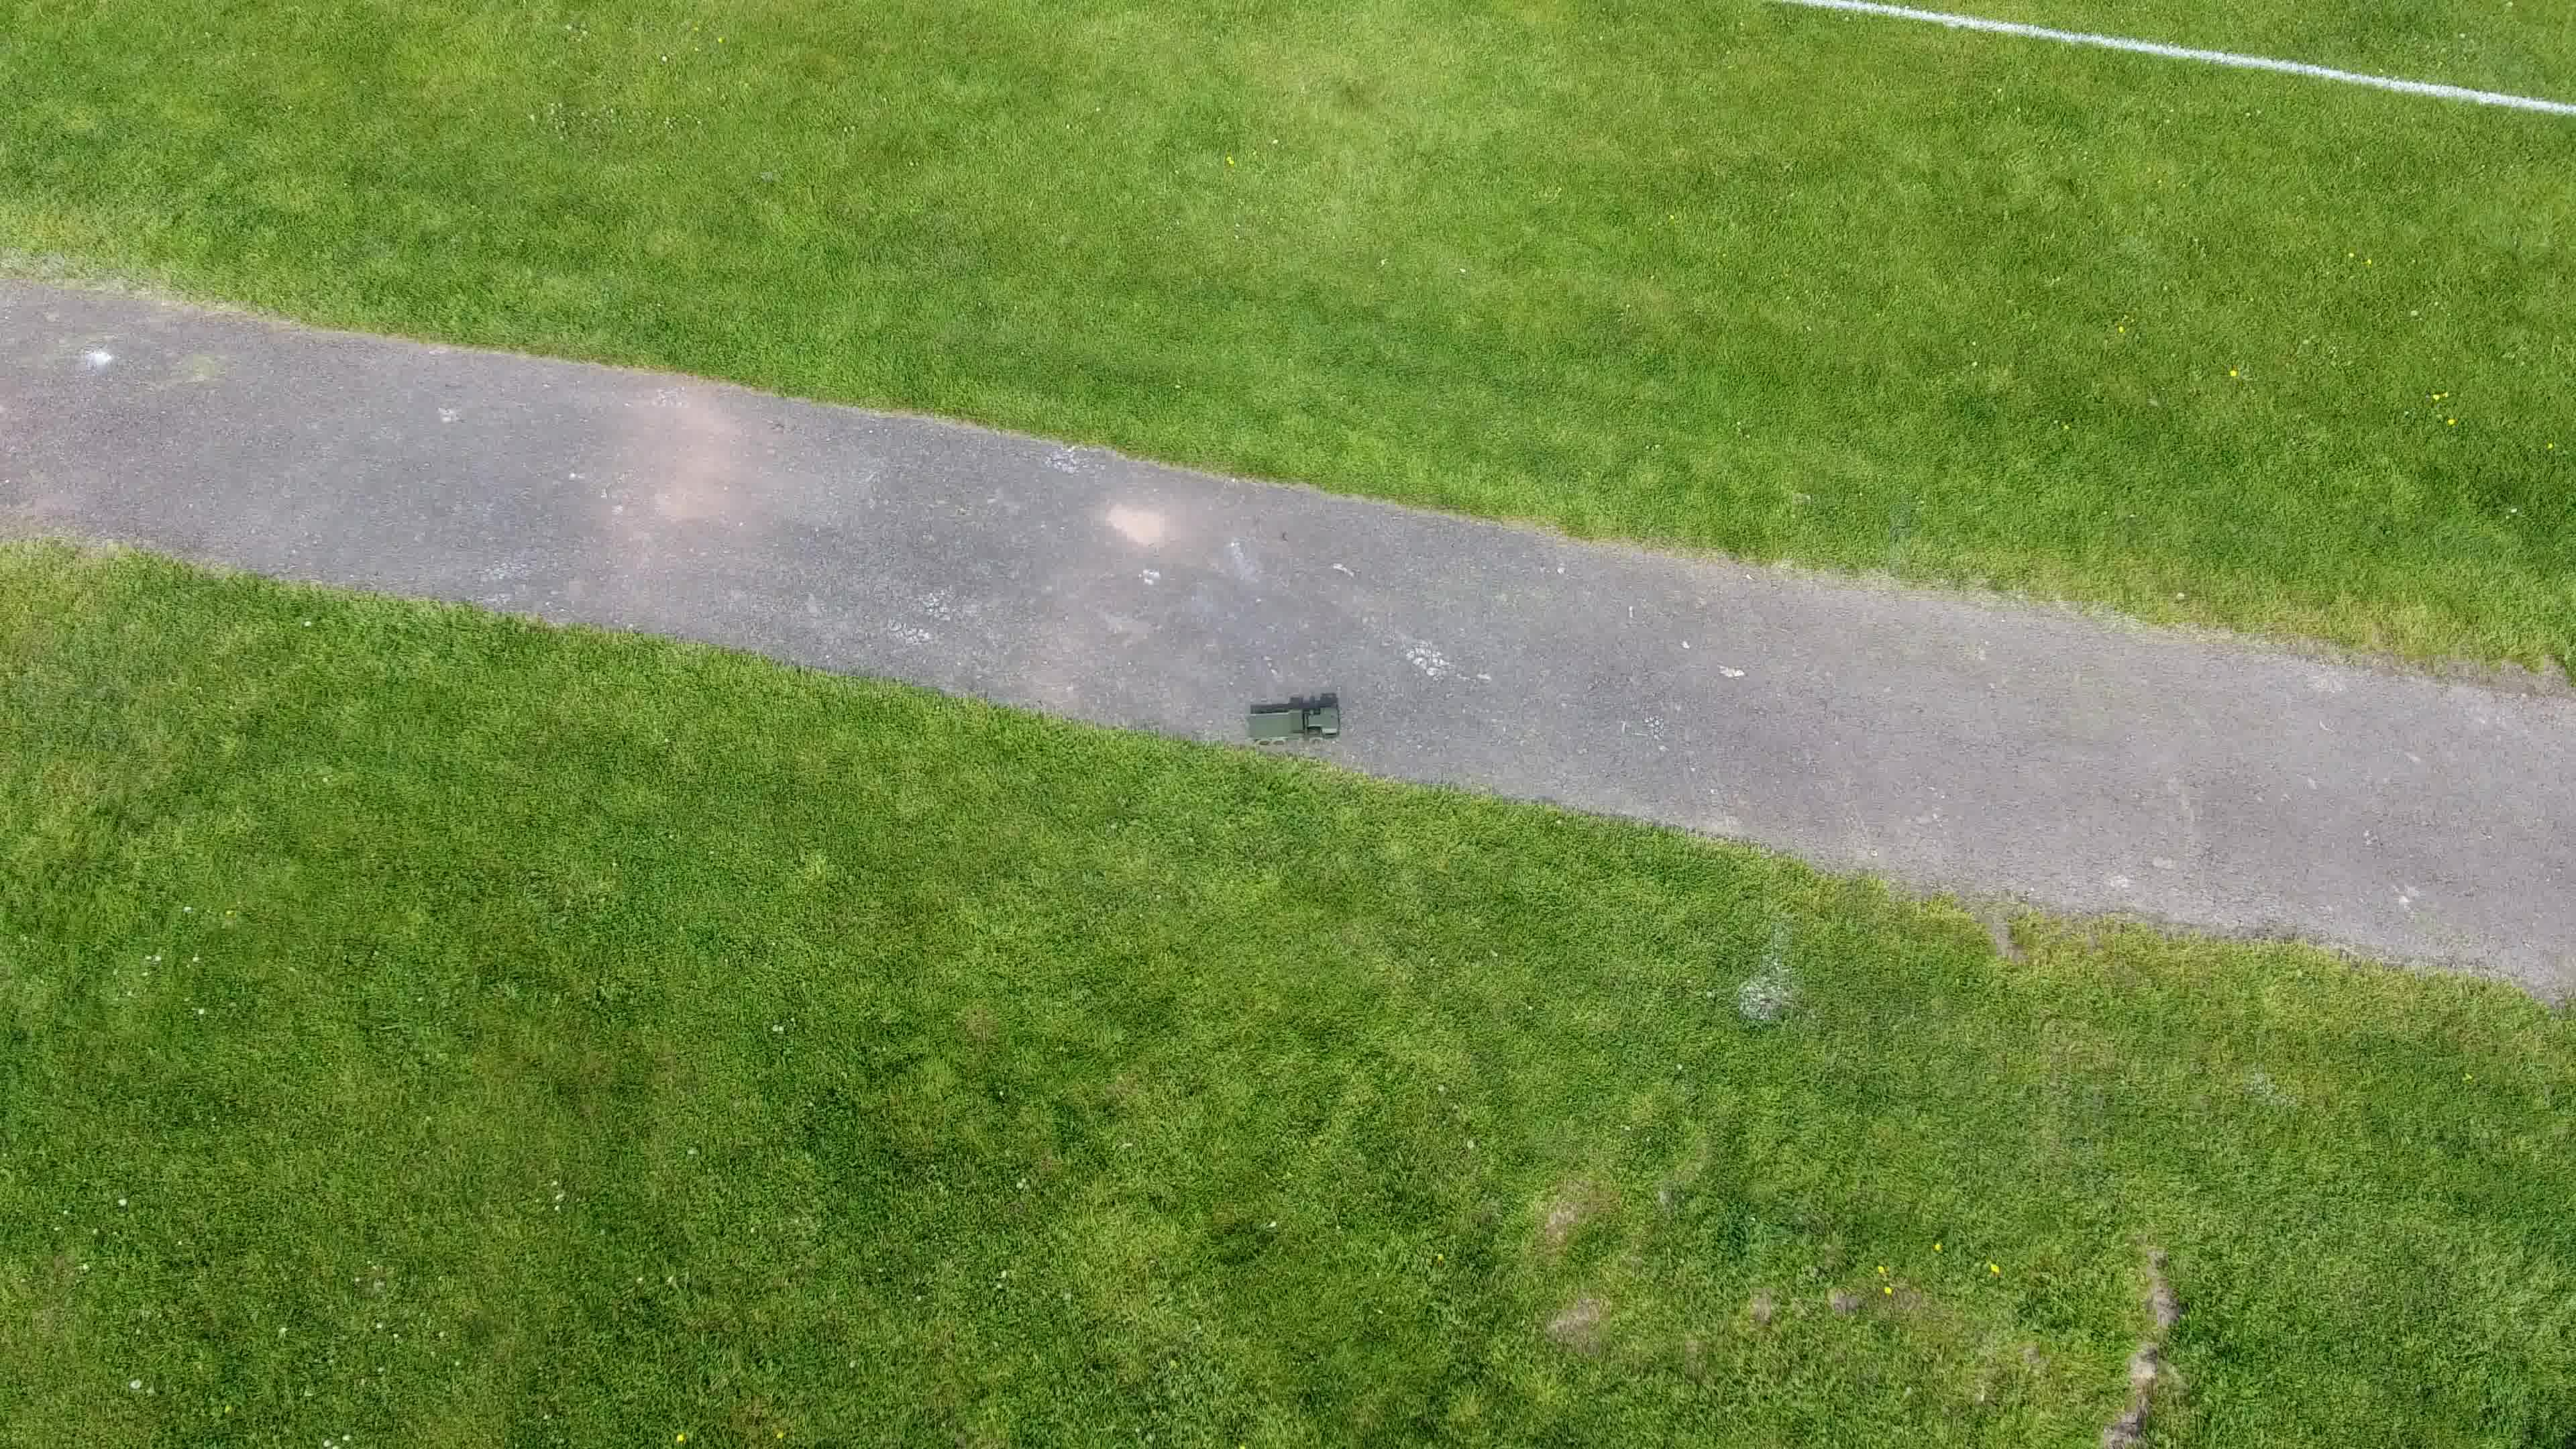transporter9: (1238, 699, 1345, 748)
